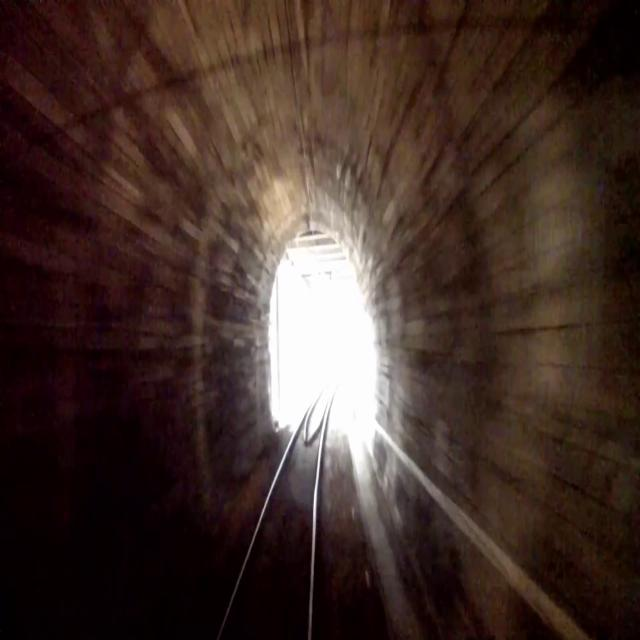rail-track: (222, 425, 321, 639), (308, 393, 327, 433)
